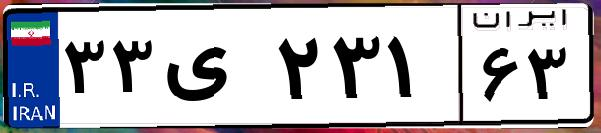1: (385, 28, 445, 110)
2: (270, 28, 330, 110)
3: (330, 28, 385, 110), (57, 26, 110, 100), (525, 38, 570, 115), (110, 28, 158, 98)
6: (475, 38, 525, 113)
ی: (158, 20, 270, 120)
